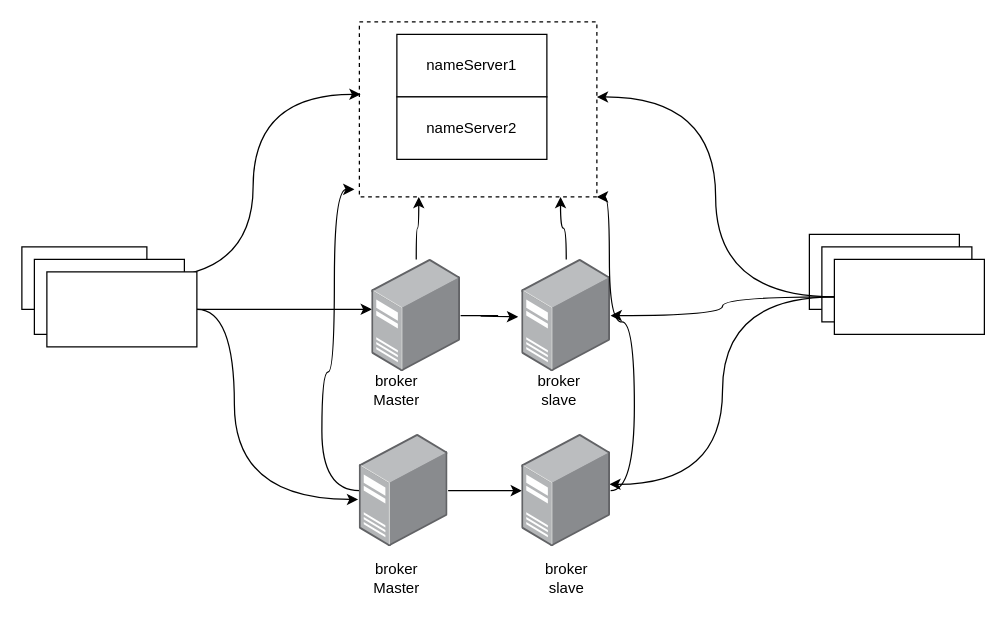
The diagram is 1006 pixels wide and 619 high, and some of its shapes have lost their labels. The shapes that lost their labels are listed below. From the top down, each one's centre as x and y in pixels, then its label:
At [121,309]: "producer".
At [908,296]: "consumer".
